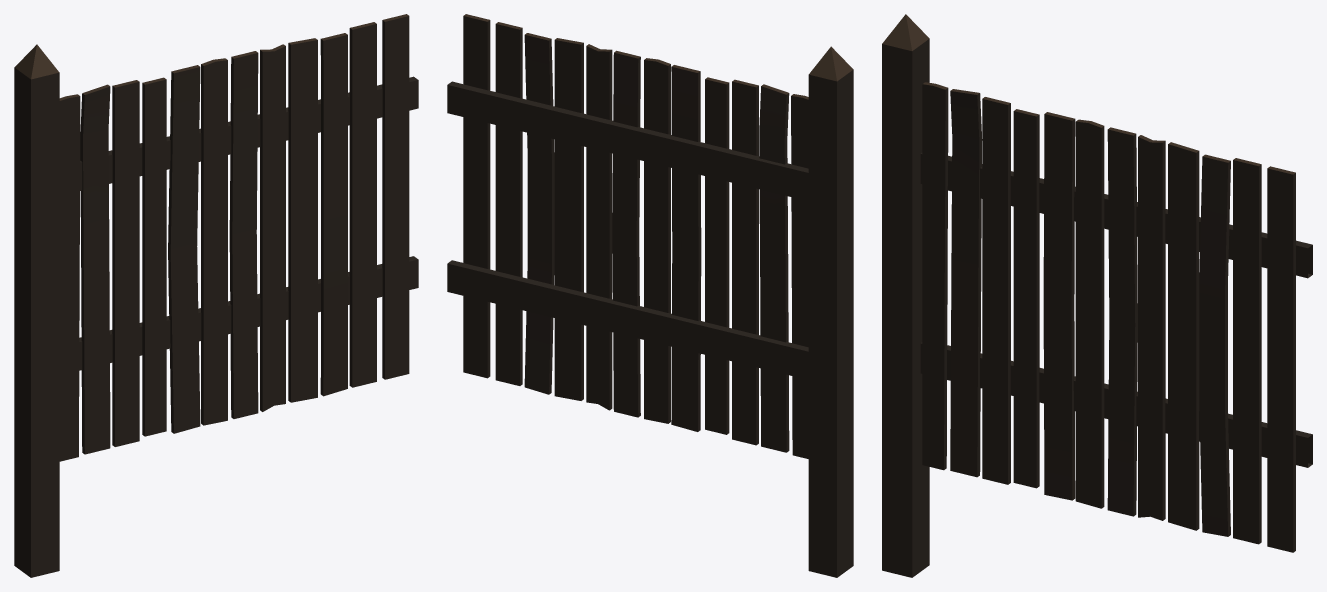
Rendered from Fence_Tall.fbx.
3 renders of one model, left to right at view 1: azimuth 30°, elevation 25°; view 2: azimuth 150°, elevation 25°; view 3: azimuth 330°, elevation 25°, orthographic. The views are drawn at different scales.
Visible parts, largest first — view 1: Cube; view 2: Cube; view 3: Cube.
Boxes of the visible parts, x1,y1,x2,y2 form: Cube: (14,14,418,577); Cube: (447,14,853,577); Cube: (882,14,1312,577).
Size of the model in its own units: 207 by 263 by 15.
